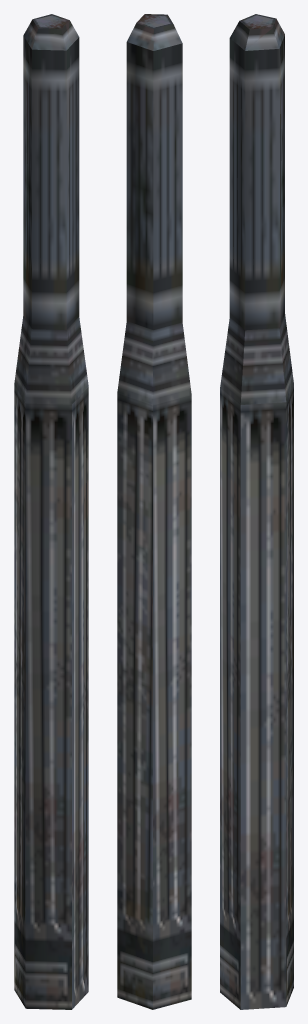
The model's file is eqp_tool_hydrospanner_l1.fbx.
3 views of the same model, side by side, from view 1: azimuth 30°, elevation 25°; view 2: azimuth 210°, elevation 25°; view 3: azimuth 330°, elevation 25° (orthographic).
Visible parts, largest first — view 1: mesh_node; view 2: mesh_node; view 3: mesh_node.
Boxes of the visible parts, x1,y1,x2,y2 form: mesh_node: (14,14,88,1009); mesh_node: (117,14,191,1009); mesh_node: (220,14,293,1009).
Size of the model in its own units: 0.0237 by 0.3419 by 0.0229.
